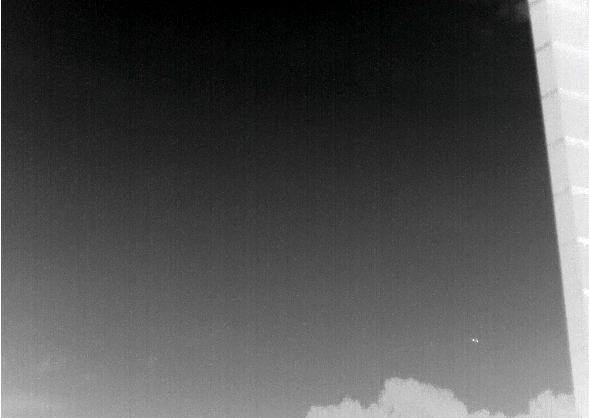dim target: (471, 335, 479, 346)
